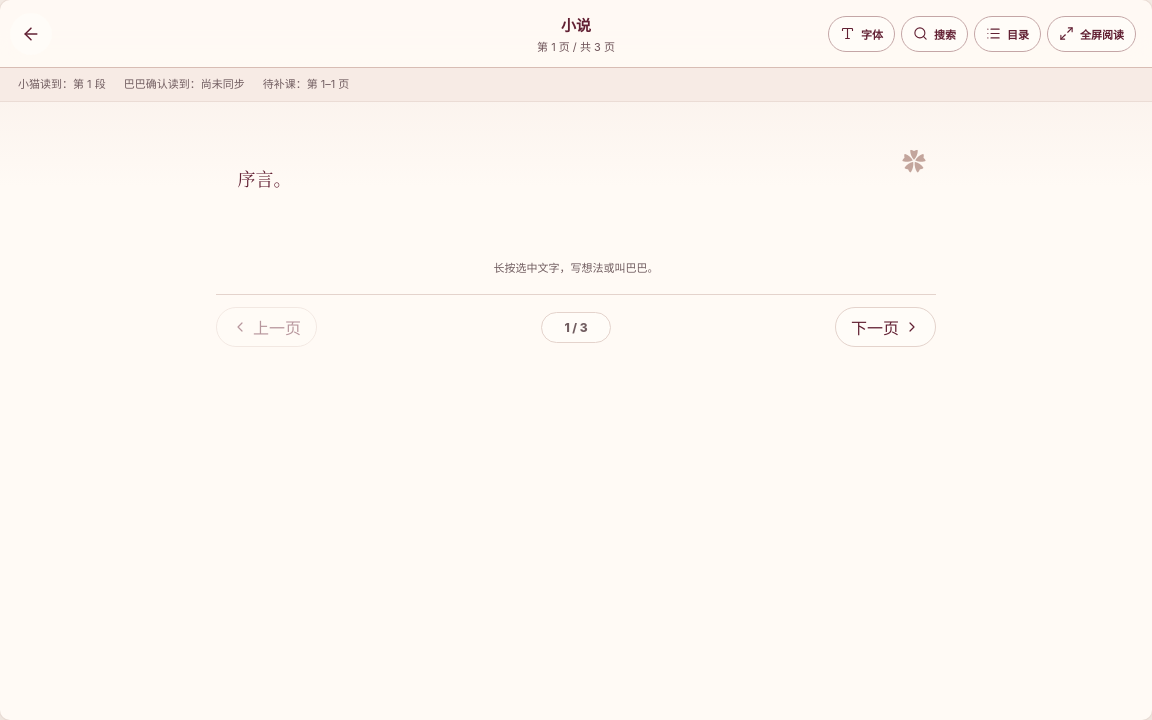
NovelReader › opens the lightweight navigation drawer and jumps to a valid page
Click the button "目录" at (1008, 34), box [974, 16, 1041, 52]
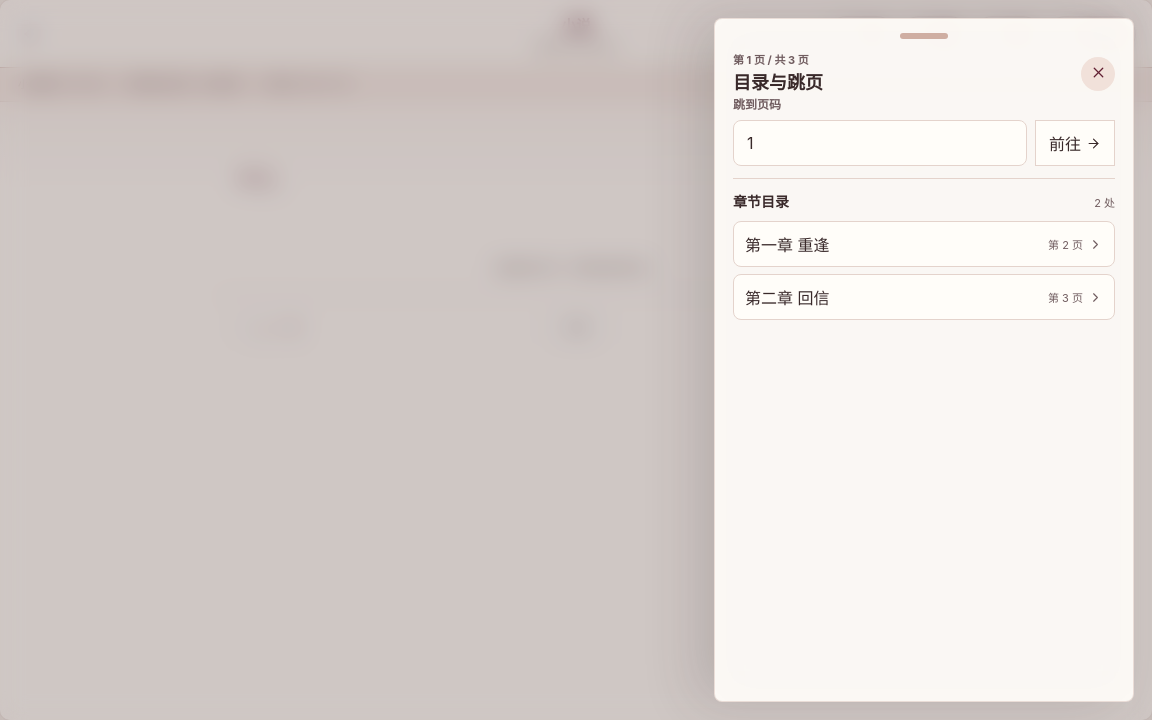
Expected: the dialog named "目录和跳页" is shown, [714, 18, 1134, 702]
Replace the text in the field labelled "跳到页码" with "3" at (880, 143), box [733, 120, 1027, 166]
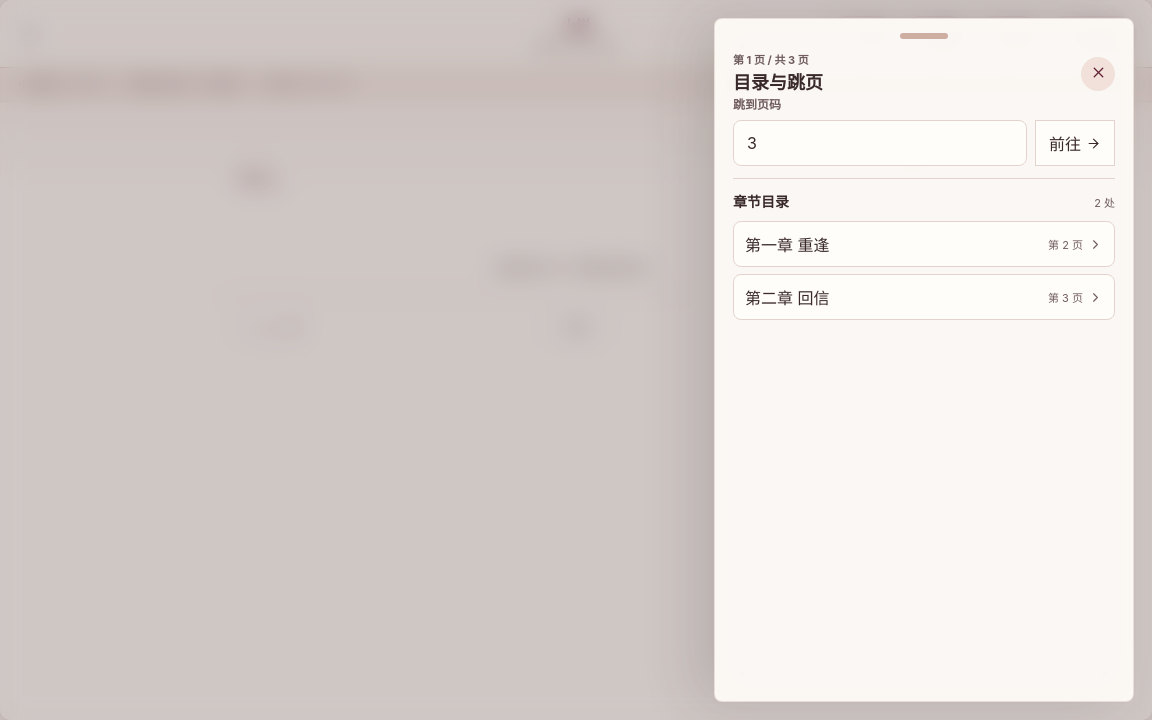
Click the button "前往" at (1075, 143), box [1035, 120, 1115, 166]
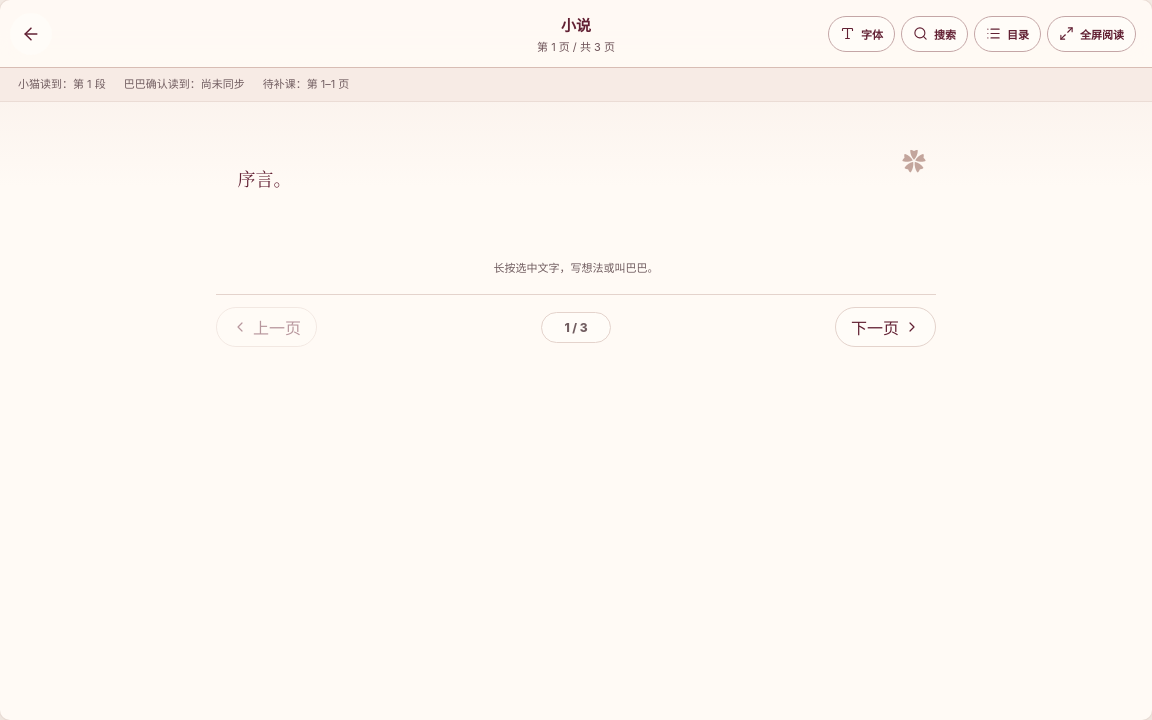
Expected: the dialog "目录和跳页" is gone
